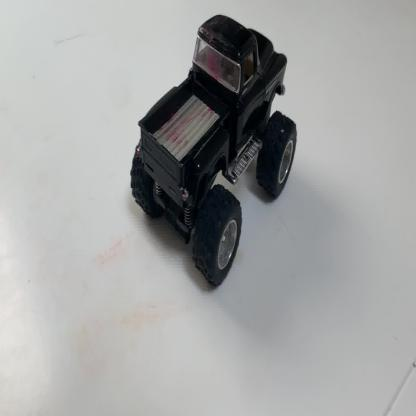black monster truck: (128, 13, 300, 292)
